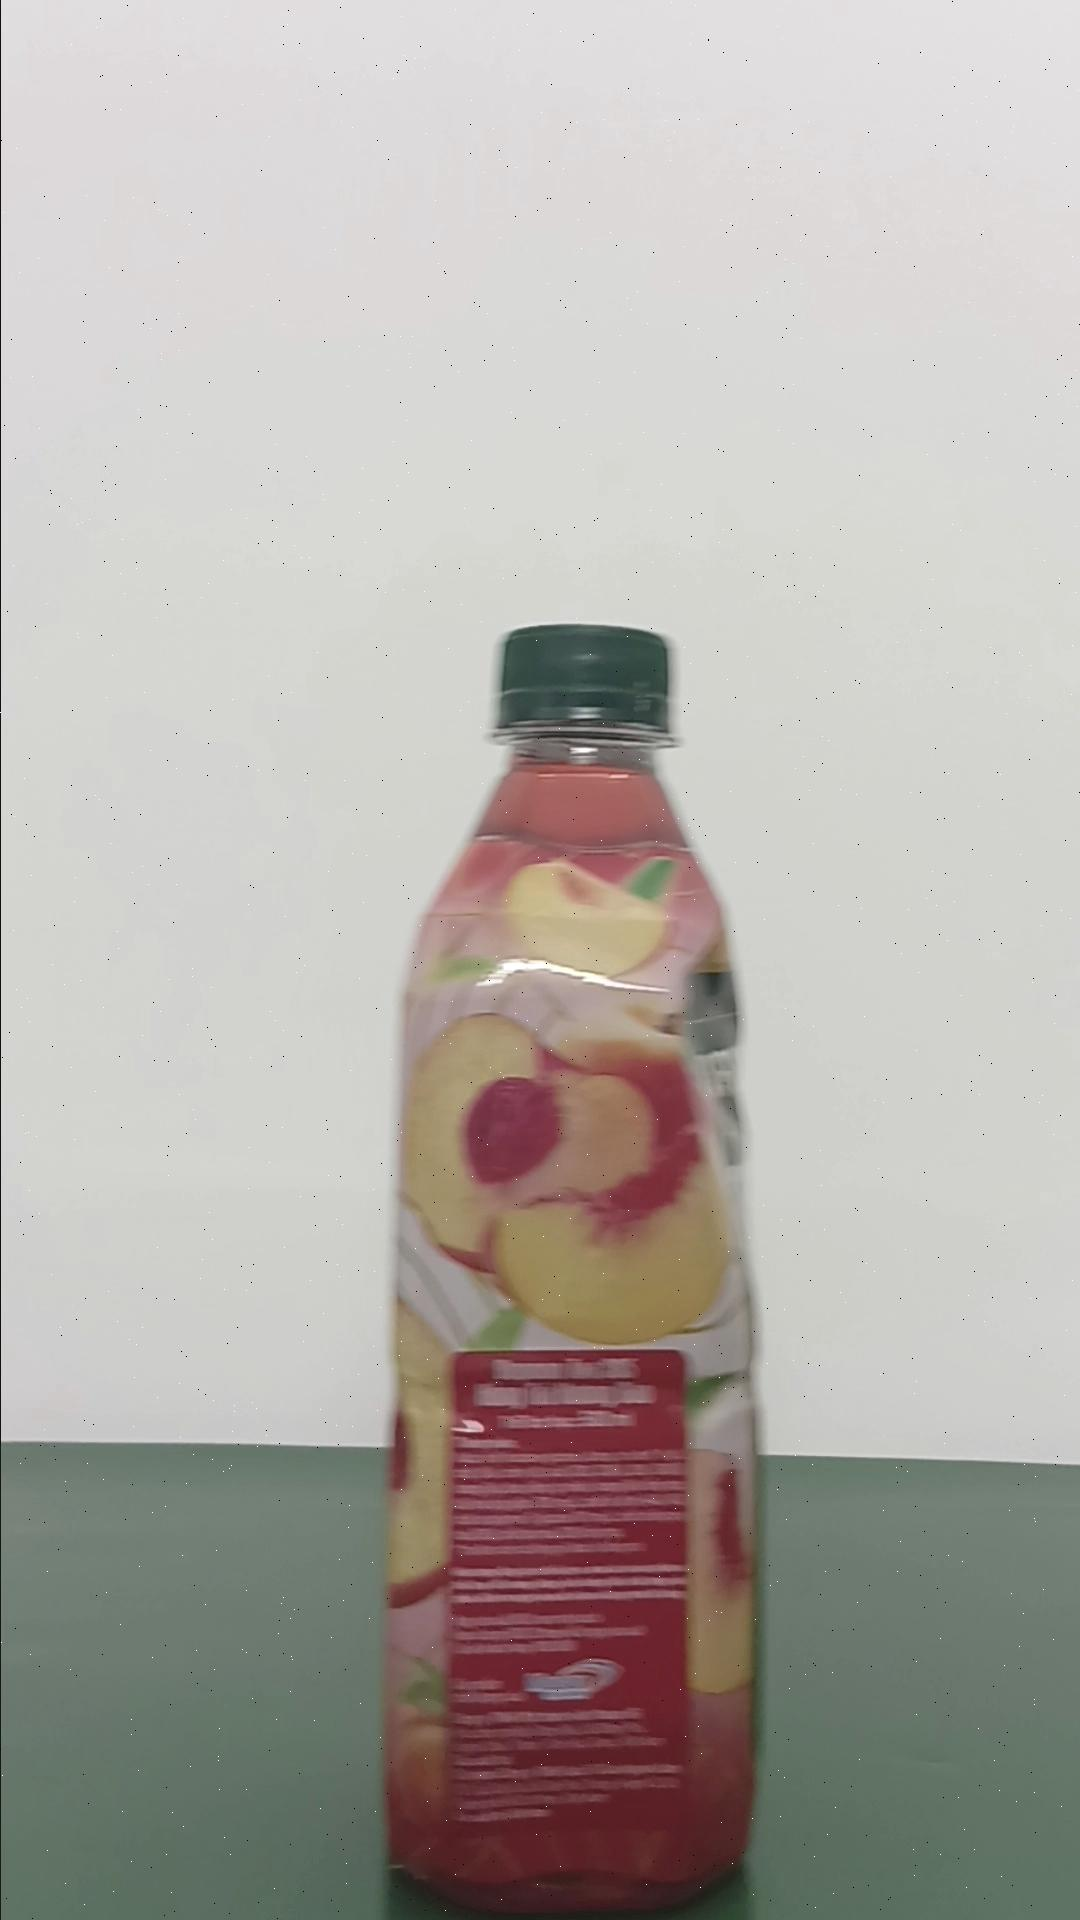loi meo sp: (382, 620, 765, 1909)
